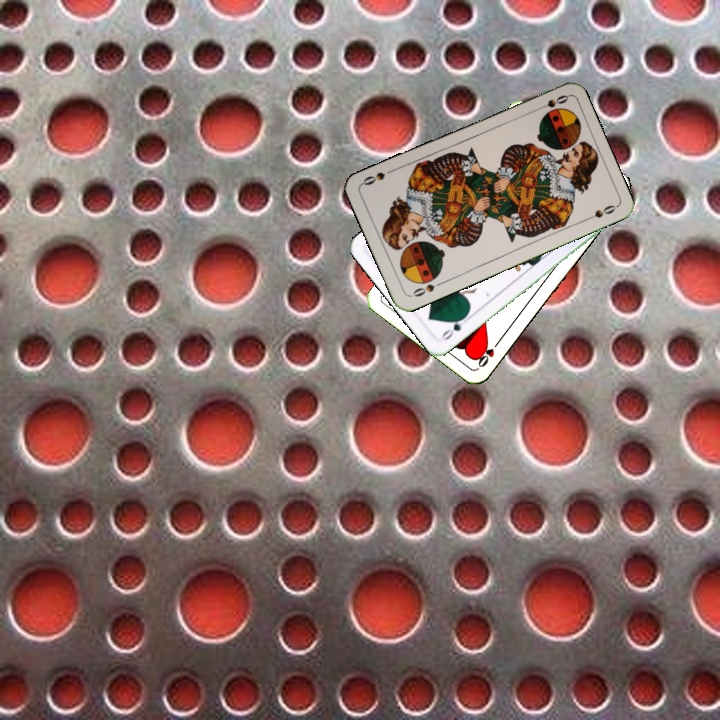GO: (437, 311, 472, 343)
HO: (474, 336, 503, 370)
SO: (531, 91, 571, 113), (409, 278, 446, 299)
